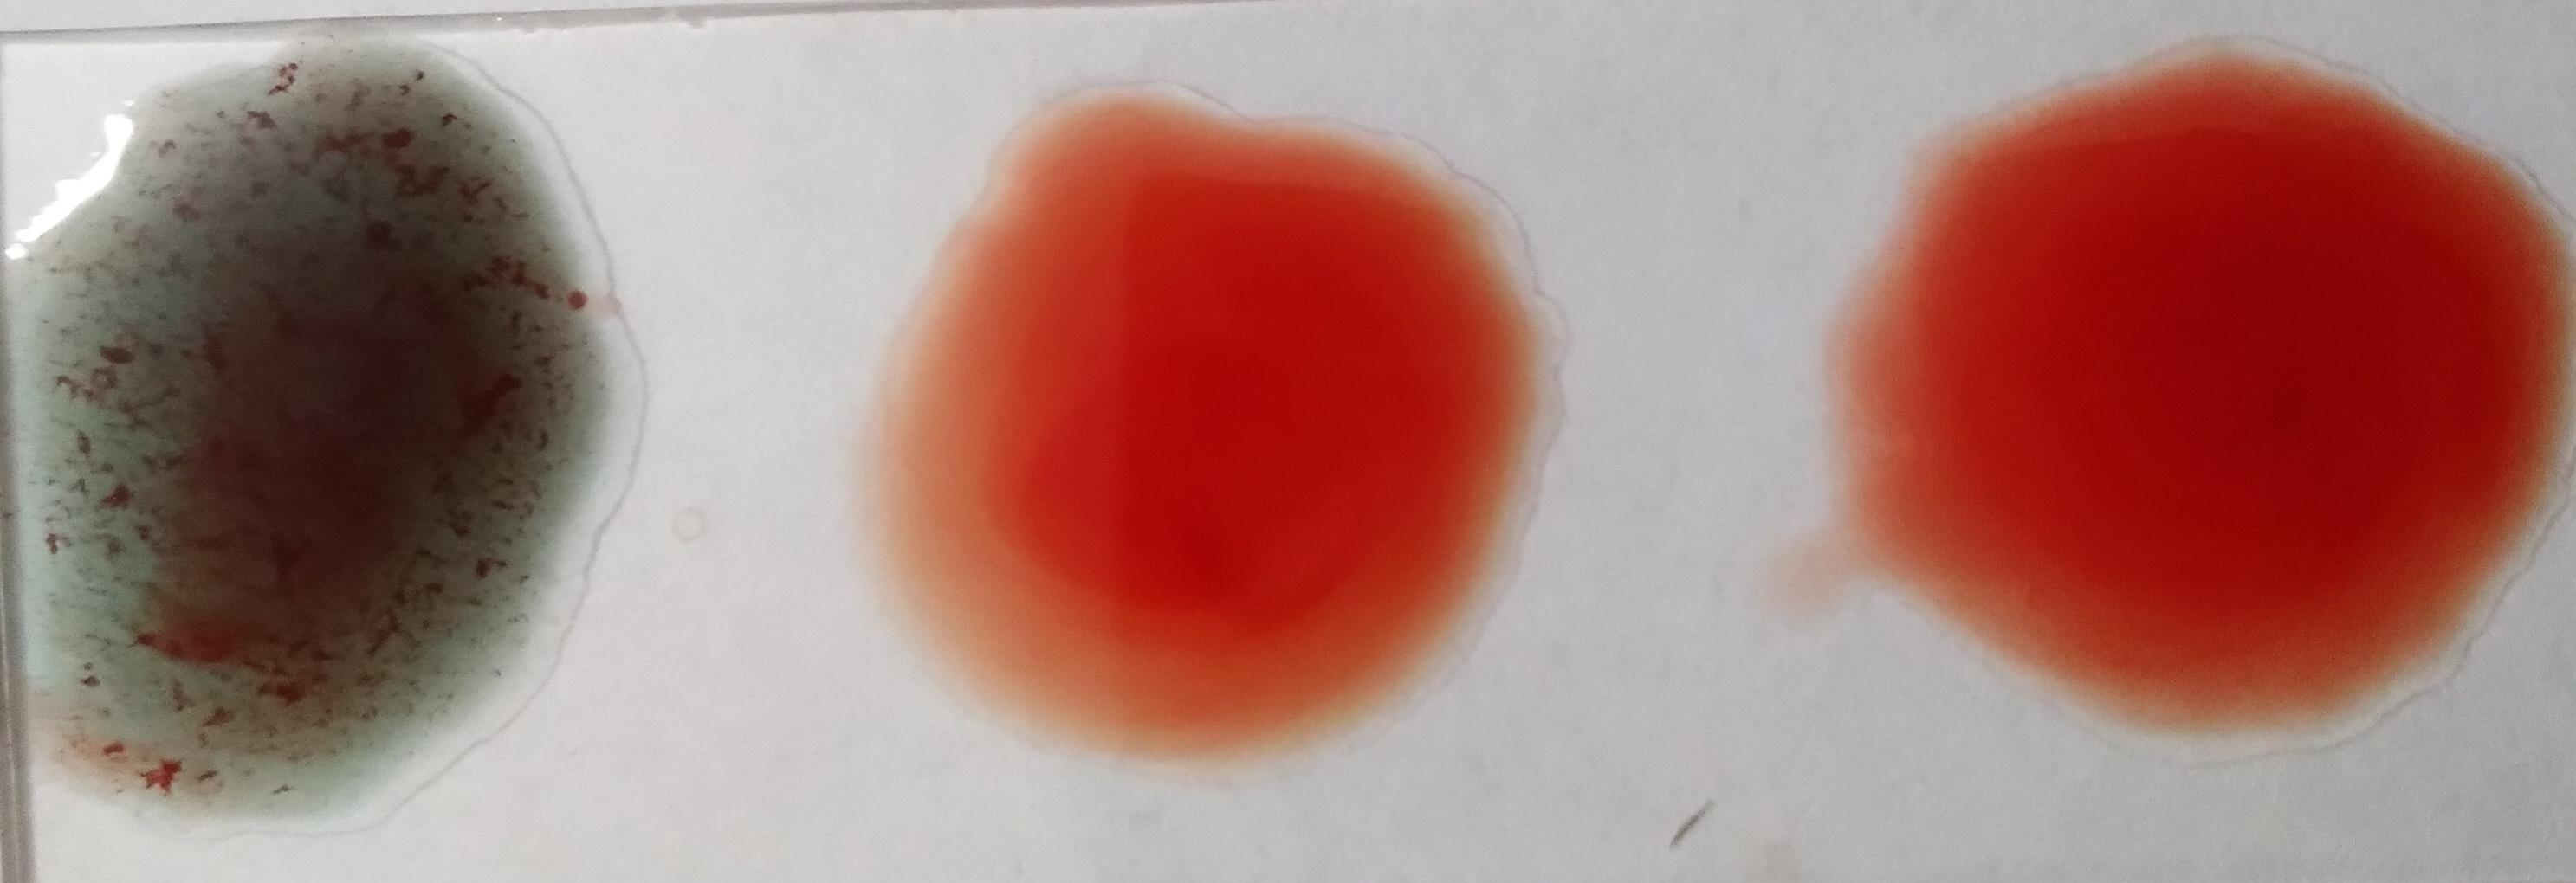A: (1, 44, 650, 853)
